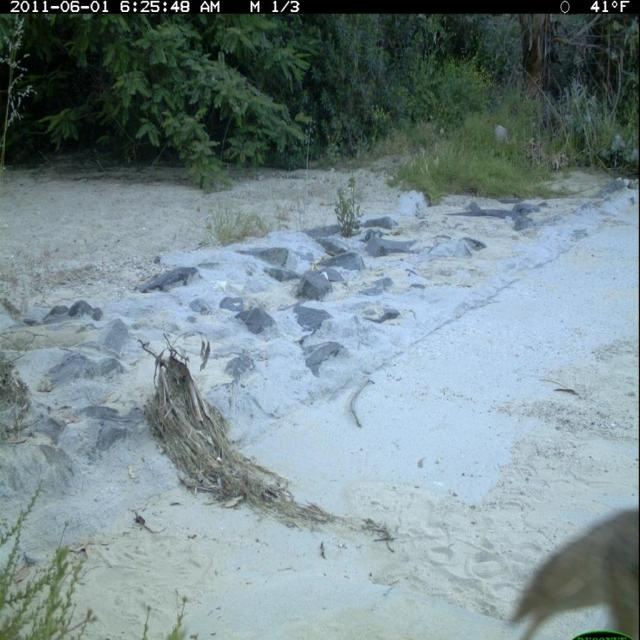coyote: (500, 496, 640, 640)
